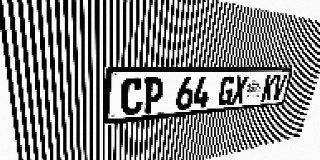4: (192, 76, 212, 109)
6: (175, 77, 196, 110)
C: (121, 77, 144, 116)
G: (217, 76, 236, 106)
K: (261, 75, 277, 102)
P: (142, 77, 164, 114)
V: (271, 75, 287, 101)
X: (230, 76, 248, 105)
